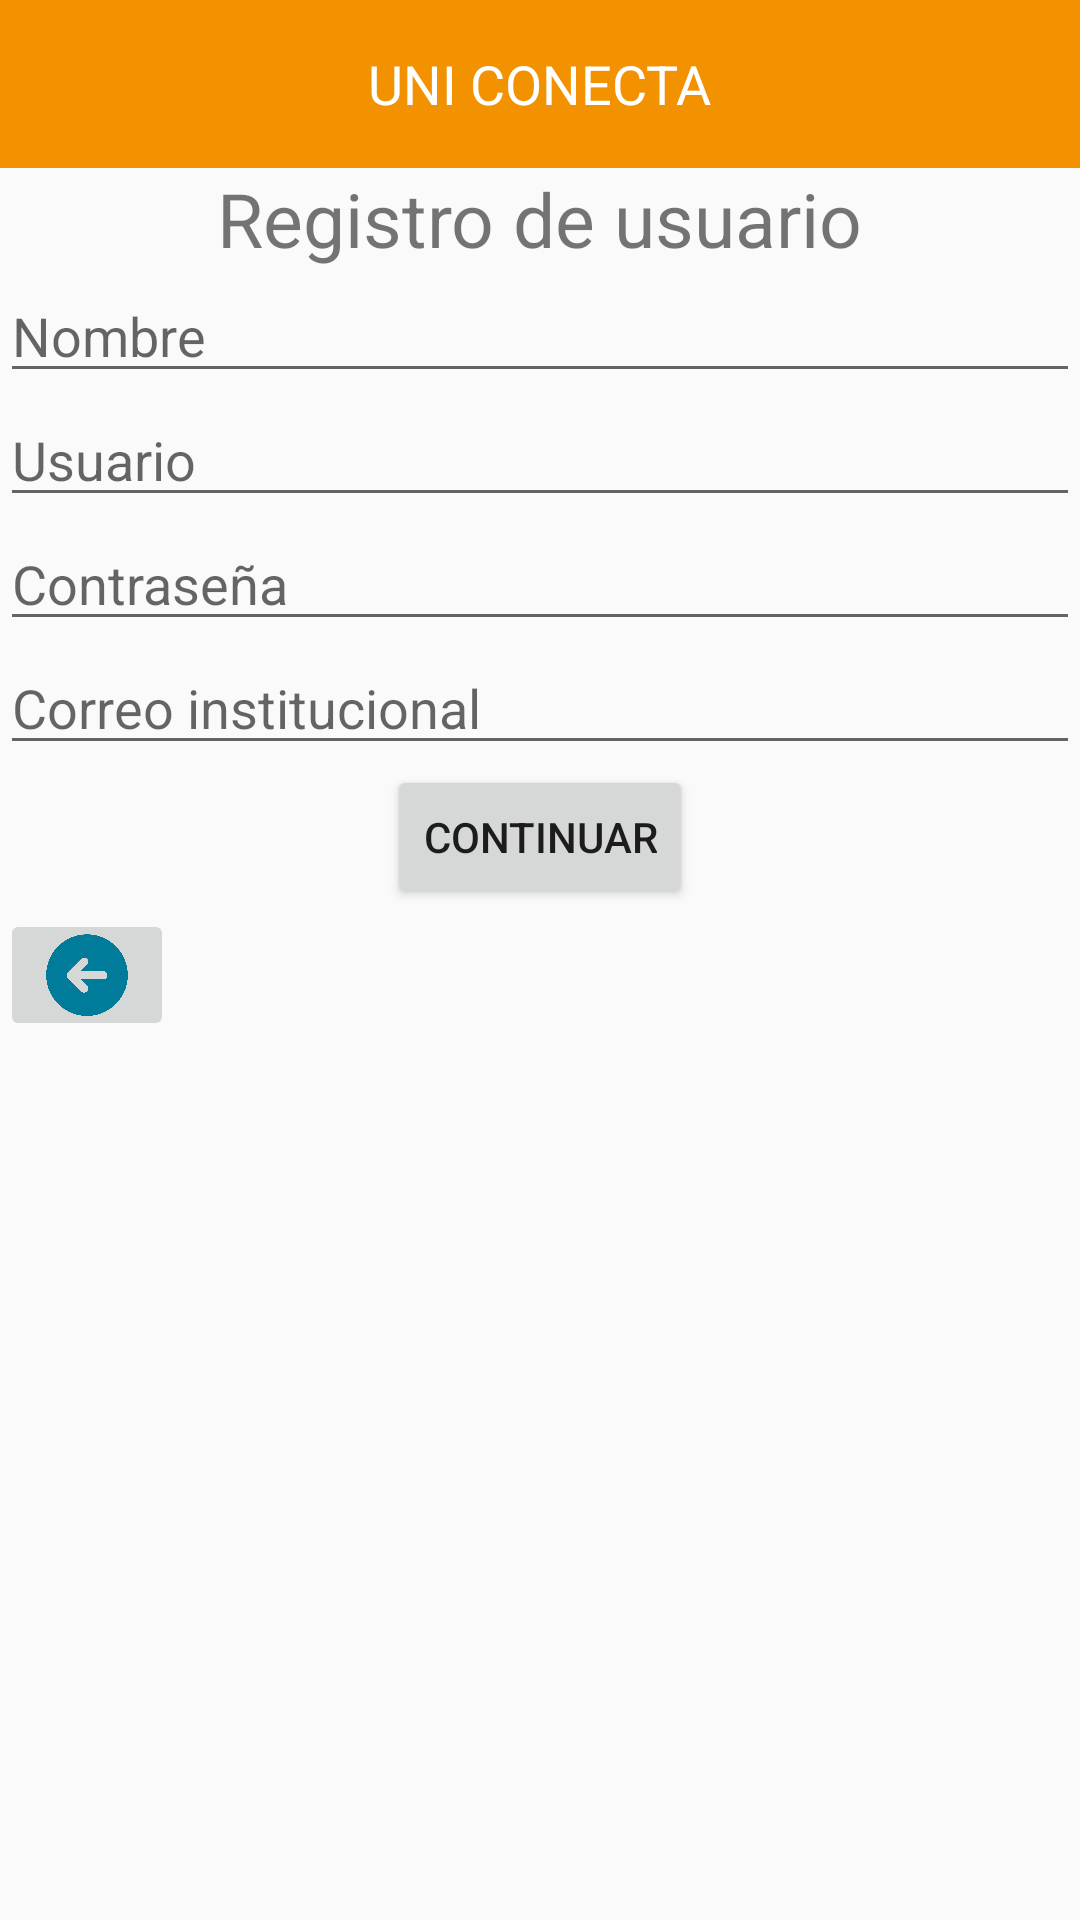

Screen size 1080 x 1920. Icon name, then its box in pixels as (x1, y1, x2, y2):
iconregresar: (12, 927, 162, 1023)
